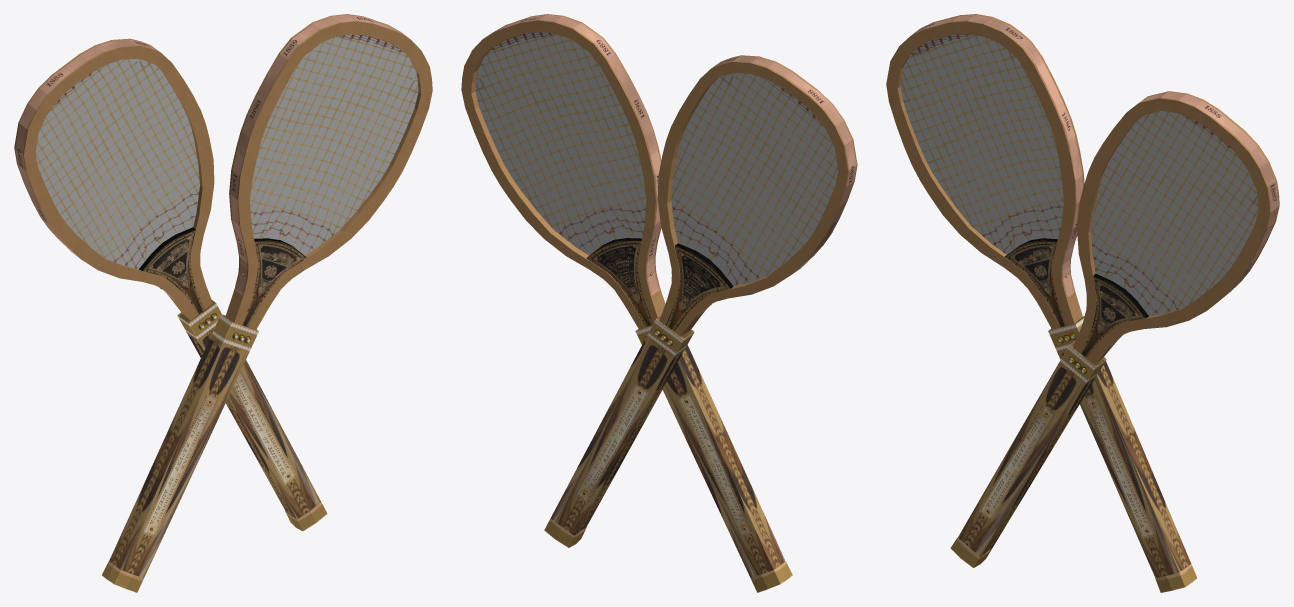
Rendered from Golden racket (1).fbx.
3 renders of one model, left to right at view 1: azimuth 30°, elevation 25°; view 2: azimuth 150°, elevation 25°; view 3: azimuth 330°, elevation 25°, orthographic.
Visible parts, largest first — view 1: pasted__pPlane021; view 2: pasted__pPlane021; view 3: pasted__pPlane021.
Boxes of the visible parts, x1,y1,x2,y2 form: pasted__pPlane021: (14, 14, 432, 592); pasted__pPlane021: (461, 14, 857, 592); pasted__pPlane021: (886, 14, 1279, 592).
Bounding box in the file's own units: 555 × 717 × 61.32.
2 materials, 2 textured.
